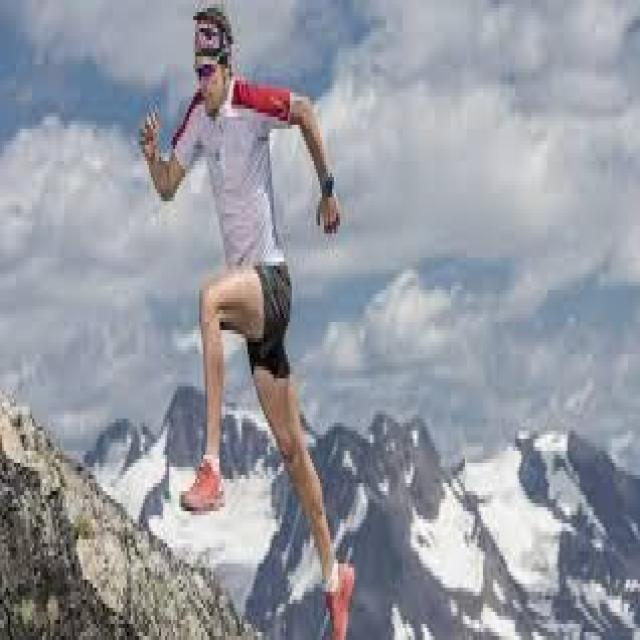running: (137, 7, 362, 640)
